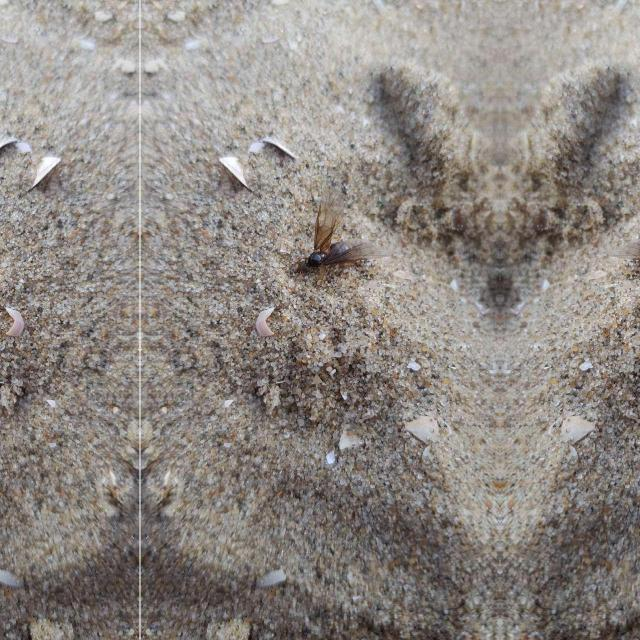Formica: (286, 208, 359, 284)
